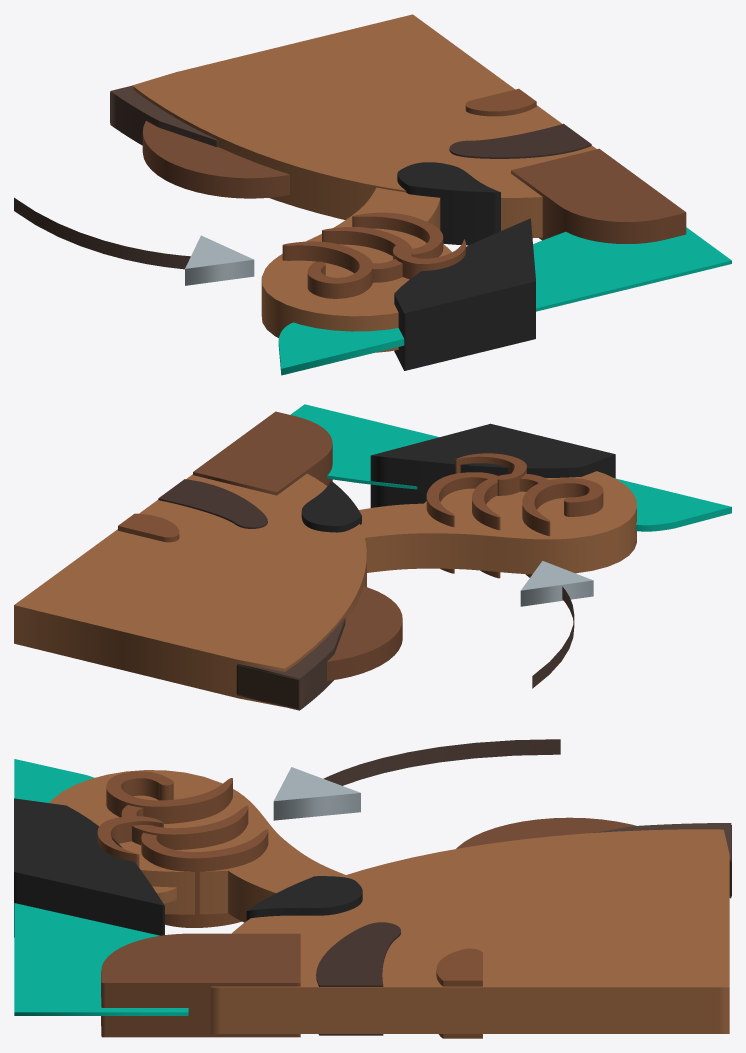
The model's file is emoji_u1f9cf_1f3fe_200d_2642.glb.
The picture shows the model from 3 angles, top to bottom: view 1: azimuth 30°, elevation 25°; view 2: azimuth 150°, elevation 25°; view 3: azimuth 270°, elevation 25°; orthographic projection. The views are drawn at different scales.
Parts seen in each view (by area): view 1: emoji_u1f9cf_1f3fe_200d_2642; view 2: emoji_u1f9cf_1f3fe_200d_2642; view 3: emoji_u1f9cf_1f3fe_200d_2642.
Boxes of the visible parts, x1,y1,x2,y2 form: emoji_u1f9cf_1f3fe_200d_2642: [14, 14, 731, 375]; emoji_u1f9cf_1f3fe_200d_2642: [14, 404, 731, 710]; emoji_u1f9cf_1f3fe_200d_2642: [14, 739, 731, 1038].
Size of the model in its own units: 0.0296 by 0.0042 by 0.0336.
